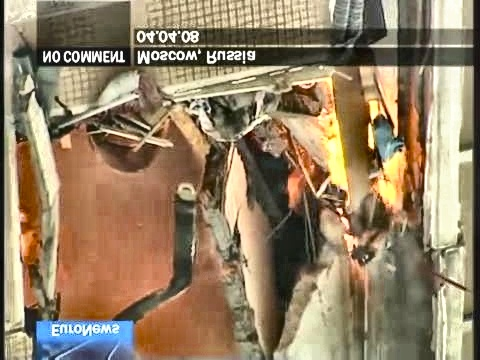fire: (319, 109, 414, 224)
